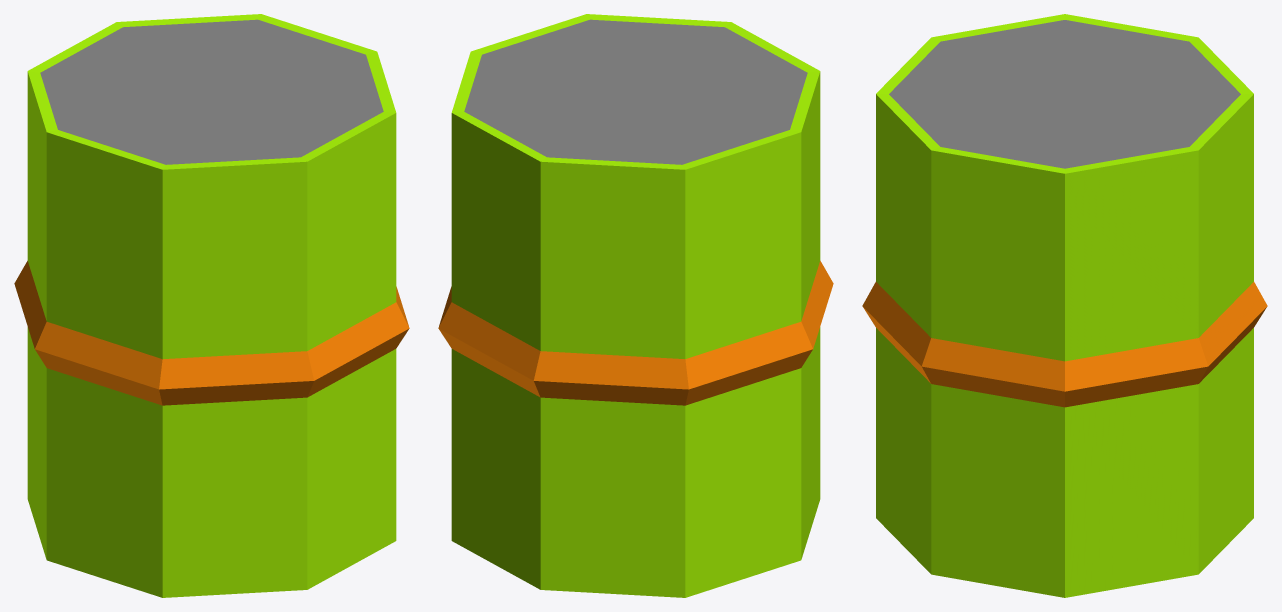
File: Barellyellow.fbx
3 renders of one model, left to right at view 1: azimuth 30°, elevation 25°; view 2: azimuth 150°, elevation 25°; view 3: azimuth 270°, elevation 25°, orthographic.
Visible parts, largest first — view 1: Cube.001; view 2: Cube.001; view 3: Cube.001.
Part boxes in pixels (x1=…): Cube.001: x1=14, y1=14, x2=409, y2=597; Cube.001: x1=438, y1=14, x2=833, y2=597; Cube.001: x1=862, y1=14, x2=1267, y2=597.
Bounding box in the file's own units: 83.18 × 96.04 × 83.18.
